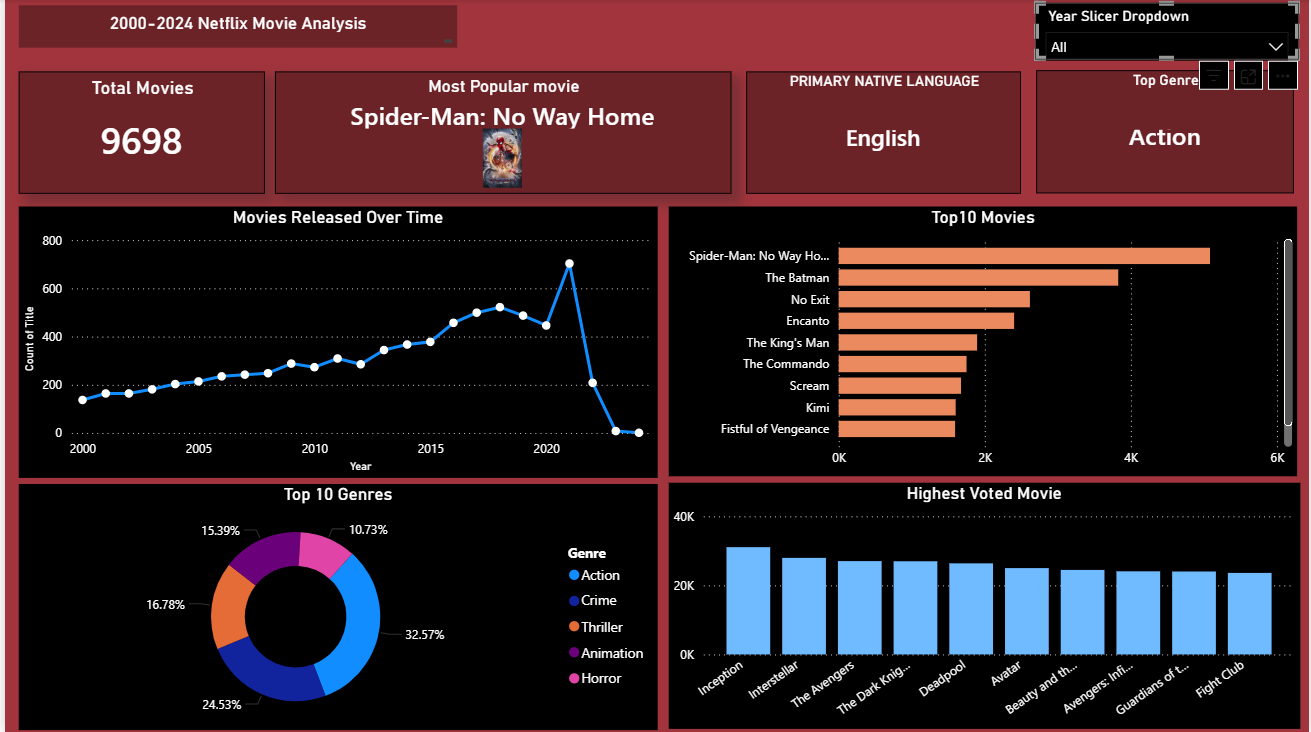

The dashboard page shown, as its layout file describes it:
{"tool":"powerbi","page":{"name":"Page 1","canvas":[1280,720],"ordinal":0},"visuals":[{"type":"cardVisual","title":"Total Movies","fields":{"Data":["Count(Table1.SlNo)"]},"box":[13.5,71.2,241.7,120.2],"z":0},{"type":"cardVisual","title":"Most Popular movie","fields":{"Data":["Min(Table1.Title)"]},"box":[265,71.2,447.9,120.2],"z":1000},{"type":"cardVisual","title":"PRIMARY NATIVE LANGUAGE","fields":{"Rows":["Table1.Original_Language"]},"box":[727.6,71.2,269.9,120.2],"z":2000},{"type":"cardVisual","title":"Top Genre","fields":{"Rows":["Table1.Genre.1"]},"box":[1012.3,69.9,253,121],"z":3000},{"type":"slicer","fields":{"Values":["Table1.Release_Date.Variation.Date Hierarchy.Year"]},"box":[1011,4,258.9,56.4],"z":4000},{"type":"stackedAreaChart","title":"Movies Released Over Time","fields":{"Category":["Table1.Release_Date.Variation.Date Hierarchy.Year"],"Y":["CountNonNull(Table1.Title)"]},"box":[13.5,203.7,627,266.3],"z":5000},{"type":"donutChart","title":"Top 10 Genres","fields":{"Category":["Table1.Genre.1"],"Y":["Max(Table1.Popularity)"]},"box":[14,476,627,241.7],"z":6000},{"type":"clusteredBarChart","title":"Top10 Movies","fields":{"Category":["Table1.Title"],"Y":["Max(Table1.Popularity)"]},"box":[651.5,203.7,617.2,265],"z":7000},{"type":"clusteredColumnChart","title":"Highest Voted Movie","fields":{"Category":["Table1.Title"],"Y":["Sum(Table1.Vote_Count)"]},"box":[651.5,475,619.6,241.7],"z":8000},{"type":"textbox","title":"2000-2024 Netflix Movie Analysis","box":[13.5,6.1,430.7,41.7],"z":10000}]}

Visuals, with their boxes in screenshot pixels (x1, y1, x2, y2), scaled from the page's 1280x720 canvas onto the 1311x732 screenshot:
"Total Movies" cardVisual: <region>14, 72, 261, 195</region>
"Most Popular movie" cardVisual: <region>271, 72, 730, 195</region>
"PRIMARY NATIVE LANGUAGE" cardVisual: <region>745, 72, 1022, 195</region>
"Top Genre" cardVisual: <region>1037, 71, 1296, 194</region>
slicer - Table1.Release_Date.Variation.Date Hierarchy.Year: <region>1035, 4, 1301, 61</region>
"Movies Released Over Time" stackedAreaChart: <region>14, 207, 656, 478</region>
"Top 10 Genres" donutChart: <region>14, 484, 657, 730</region>
"Top10 Movies" clusteredBarChart: <region>667, 207, 1299, 477</region>
"Highest Voted Movie" clusteredColumnChart: <region>667, 483, 1302, 729</region>
"2000-2024 Netflix Movie Analysis" textbox: <region>14, 6, 455, 49</region>
